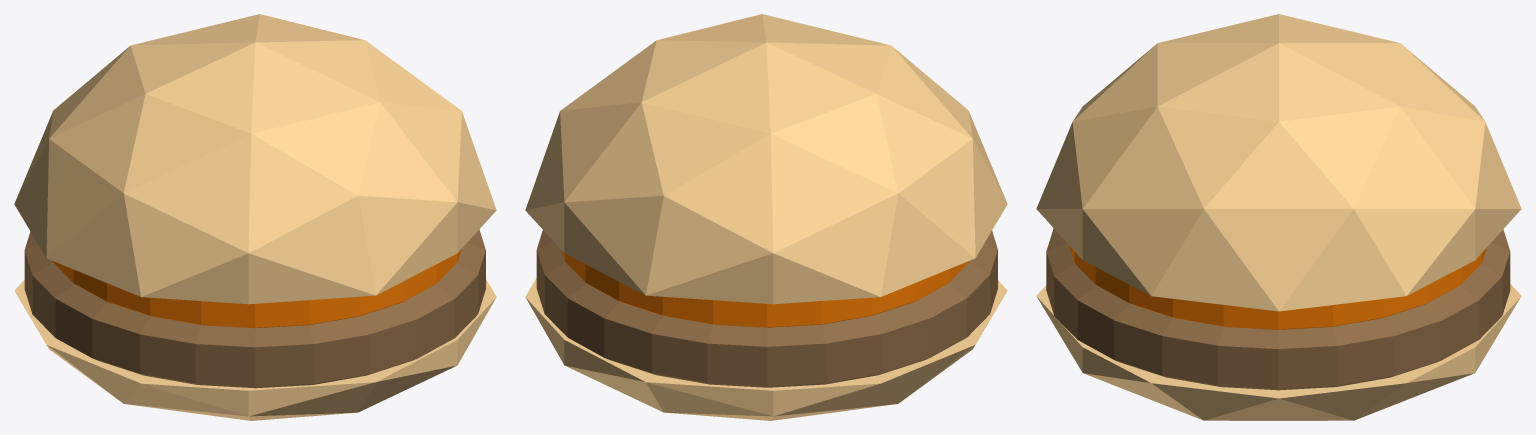
The model's file is Burger 2.glb.
The picture shows the model from 3 angles, left to right: view 1: azimuth 30°, elevation 25°; view 2: azimuth 150°, elevation 25°; view 3: azimuth 270°, elevation 25°; orthographic projection.
Parts seen in each view (by area): view 1: Burger 2; view 2: Burger 2; view 3: Burger 2.
Part boxes in pixels (x1,y1,x2,y2): Burger 2: (14,14,496,420); Burger 2: (525,14,1007,420); Burger 2: (1036,14,1521,420).
Bounding box in the file's own units: 0.9025 × 0.6902 × 0.9025.
